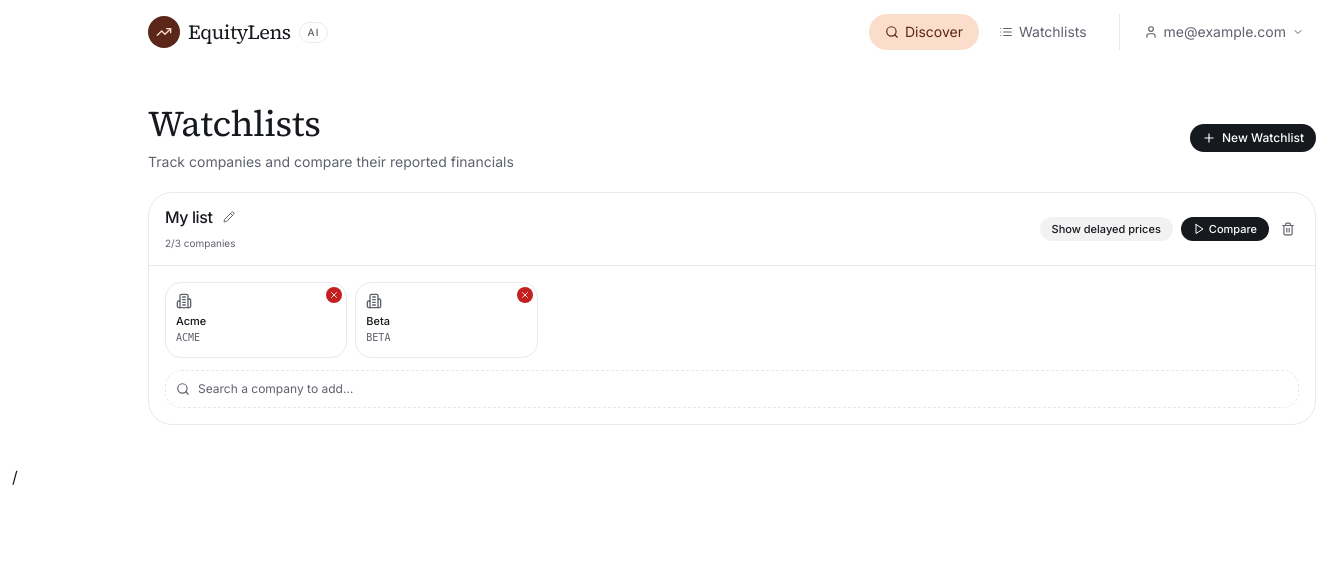
Scenario: WatchlistsPage › accepts the real API shape for unavailable snapshot rows (cached/stale/price all null)
Expected: the text "Acme" is shown, [176,314,206,328]
Step 1. Click the button "Show delayed prices" → coordinates (1106, 229), box [1040,217,1173,241]
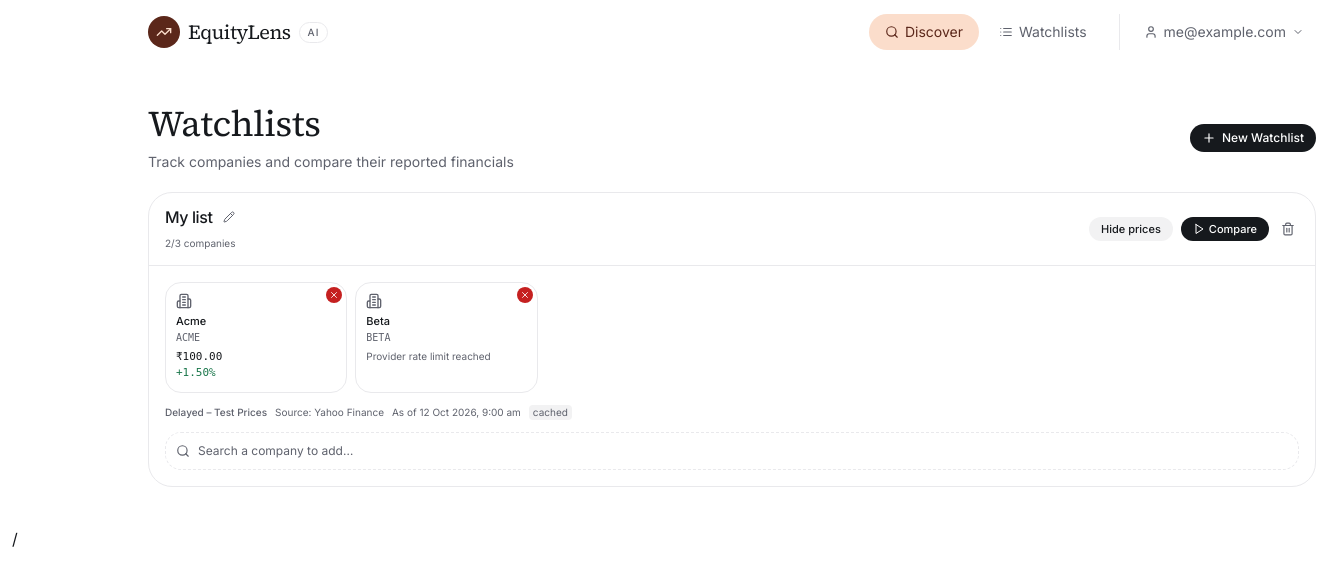
Expected: the text "Provider rate limit reached" is shown, [366,350,491,362]
